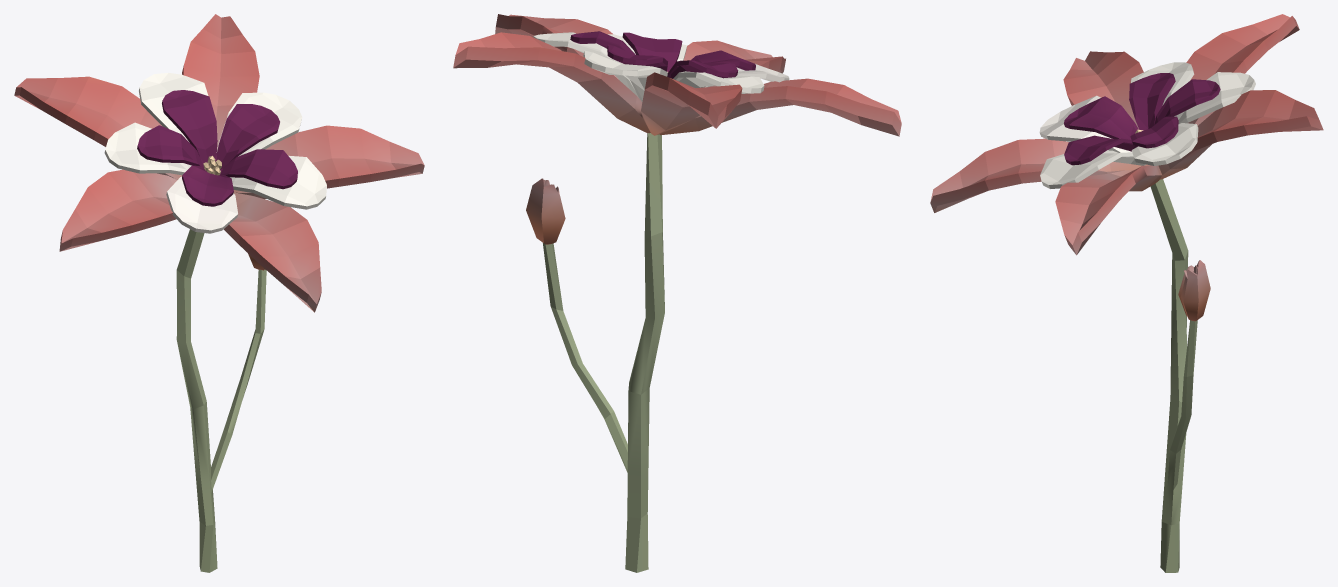
File: Lily_Type02_Orange.fbx
3 renders of one model, left to right at view 1: azimuth 30°, elevation 25°; view 2: azimuth 150°, elevation 25°; view 3: azimuth 270°, elevation 25°, orthographic. The views are drawn at different scales.
Parts seen in each view (by area): view 1: Lily_Type02_Orange; view 2: Lily_Type02_Orange; view 3: Lily_Type02_Orange.
Part boxes in pixels (x1=…): Lily_Type02_Orange: x1=14, y1=14, x2=424, y2=572; Lily_Type02_Orange: x1=453, y1=14, x2=901, y2=572; Lily_Type02_Orange: x1=930, y1=14, x2=1323, y2=572.
Bounding box in the file's own units: 32.91 × 42.68 × 30.43.
